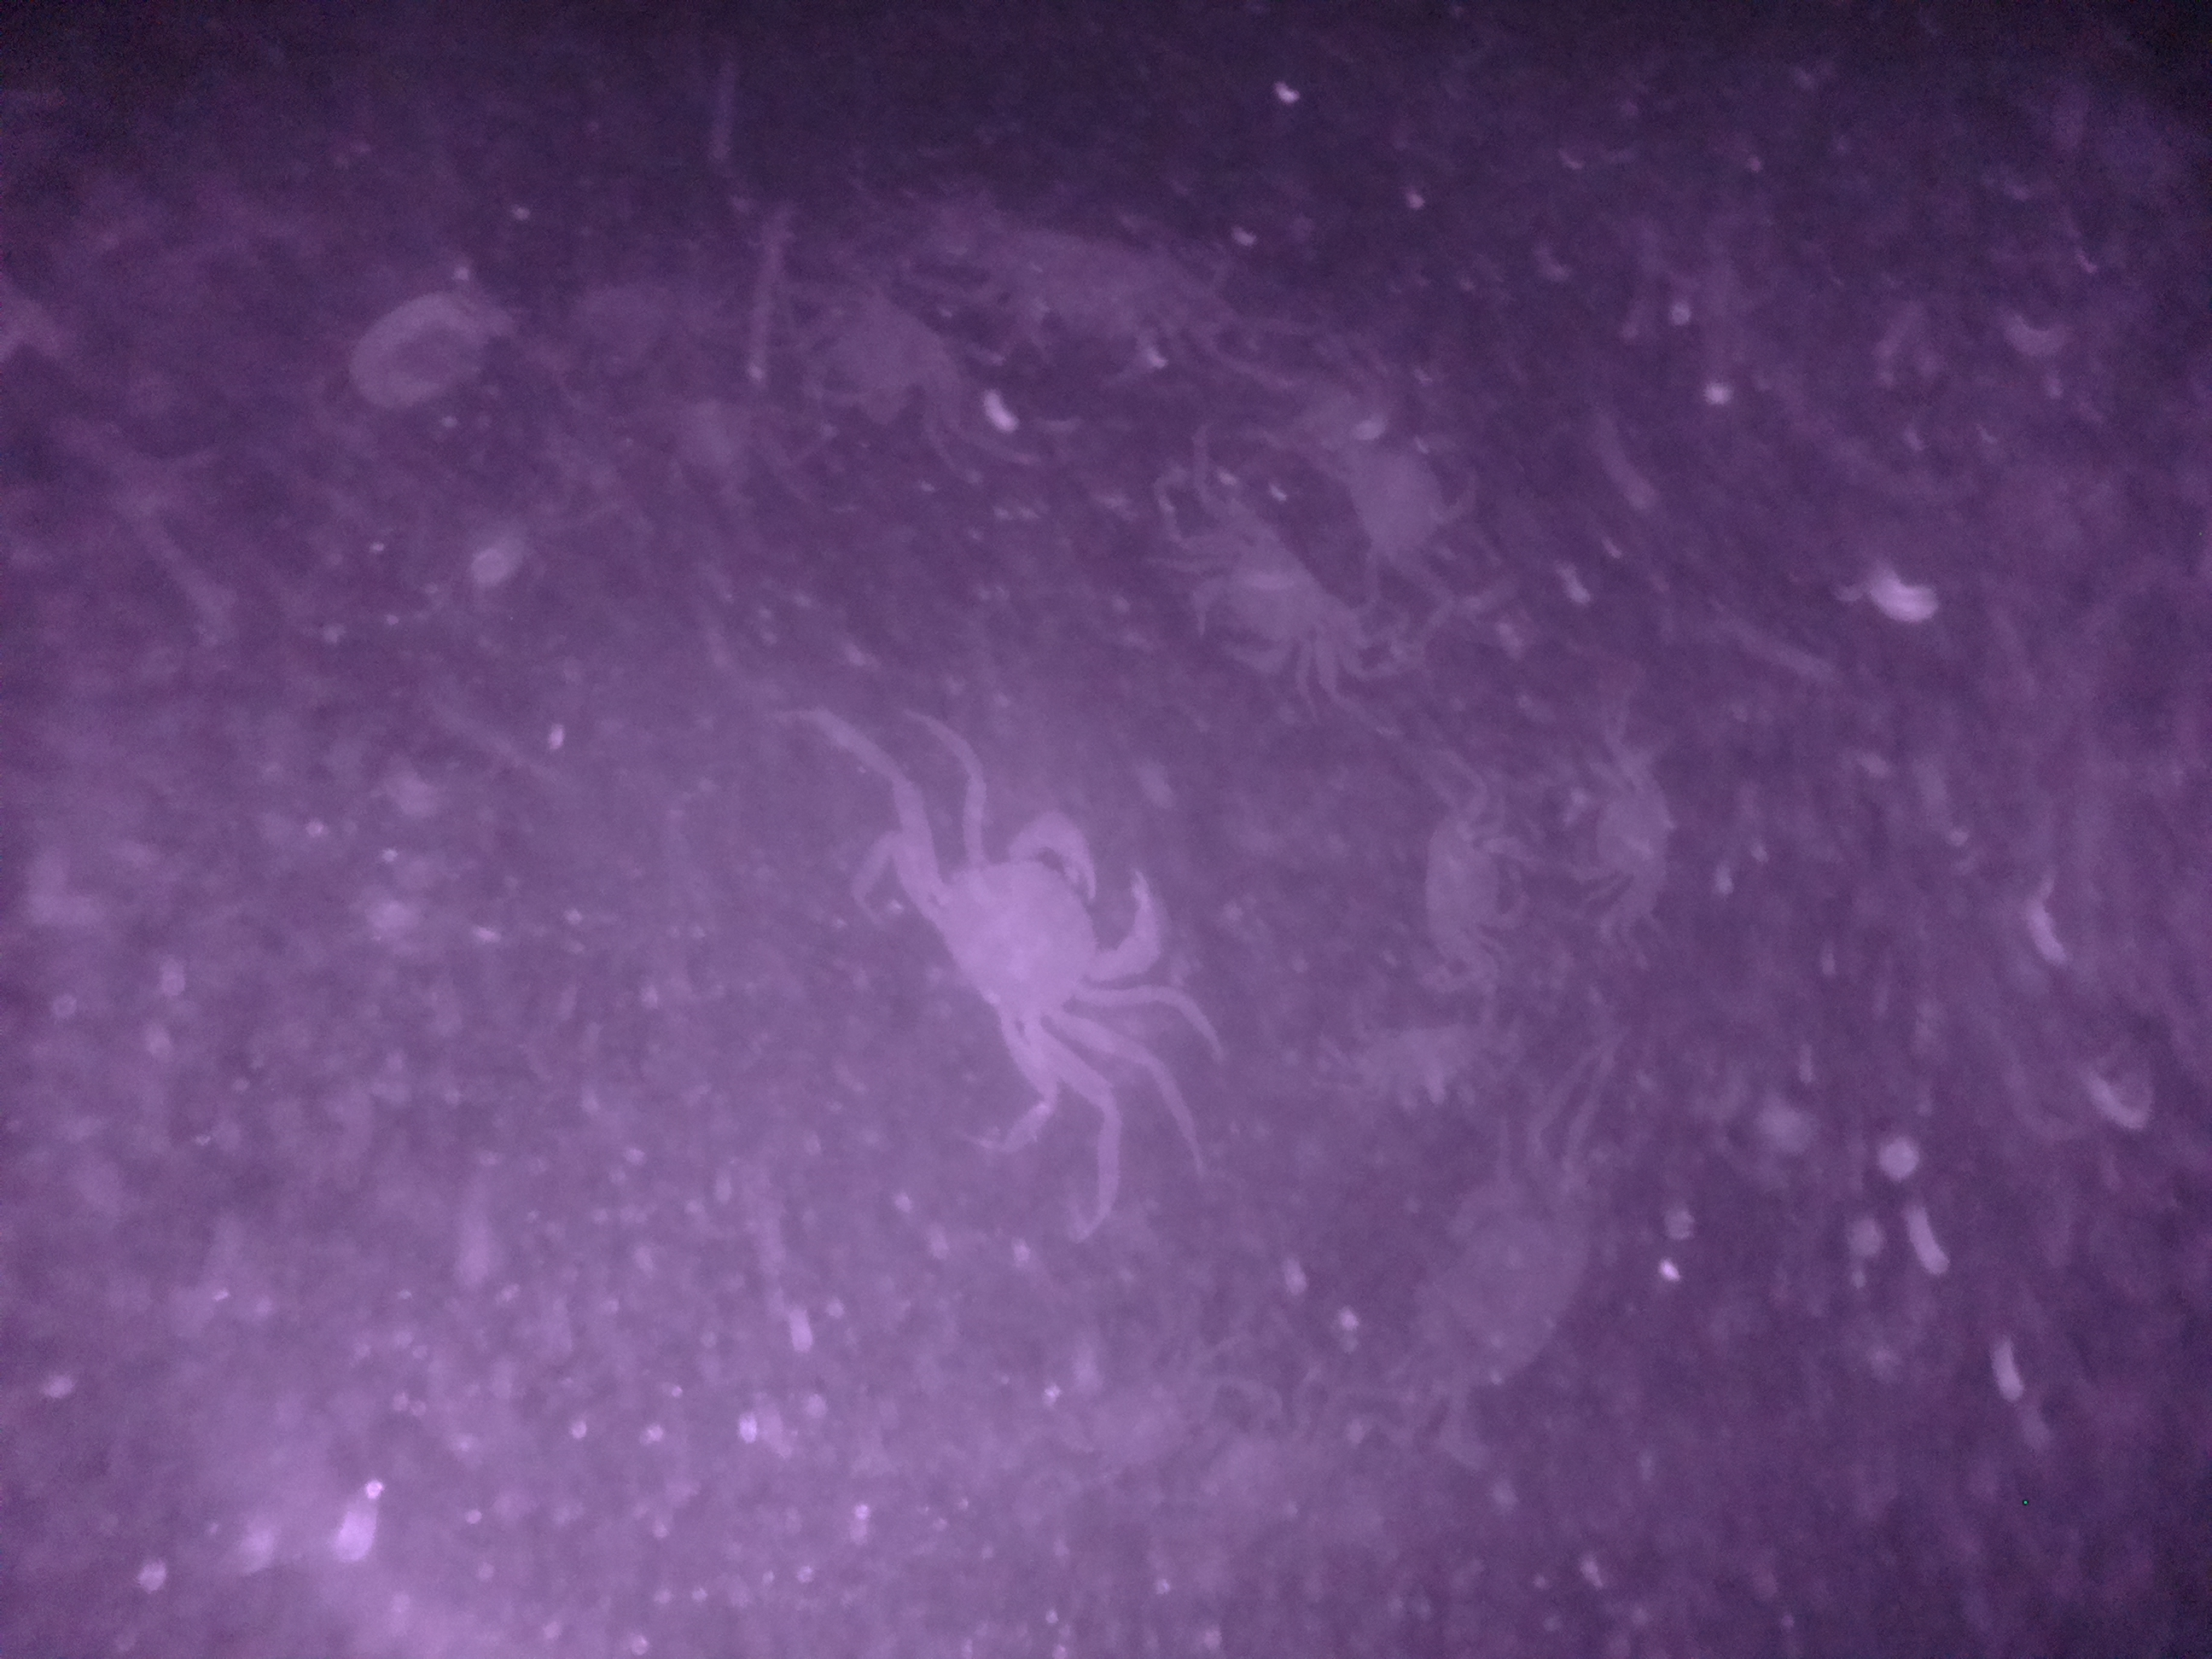Crab: (911, 802, 1176, 1066), (1317, 373, 1494, 586), (1181, 511, 1350, 697), (1554, 742, 1693, 943), (1416, 793, 1538, 995)
